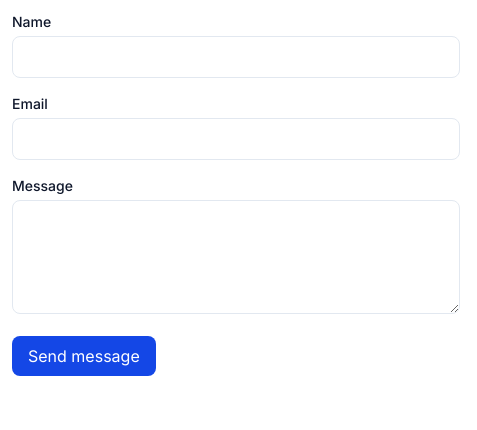
ContactForm › shows a validation error for an invalid email
Type "Jane" into the field labelled "Name".
click(236, 57); type("Jane")  # box [12,36,460,78]
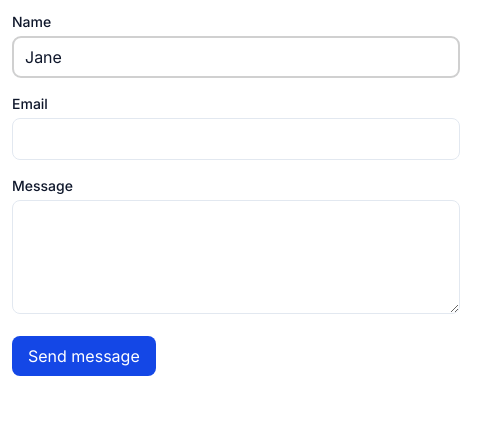
Type "not-an-email" into the field labelled "Email".
click(236, 139); type("not-an-email")  # box [12,118,460,160]
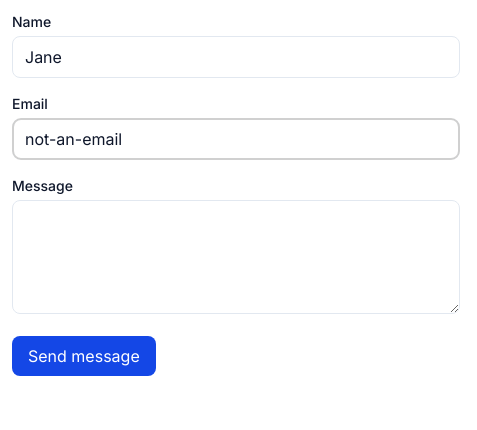
Type "Hello there" into the text box labelled "Message".
click(236, 257); type("Hello there")  # box [12,200,460,314]
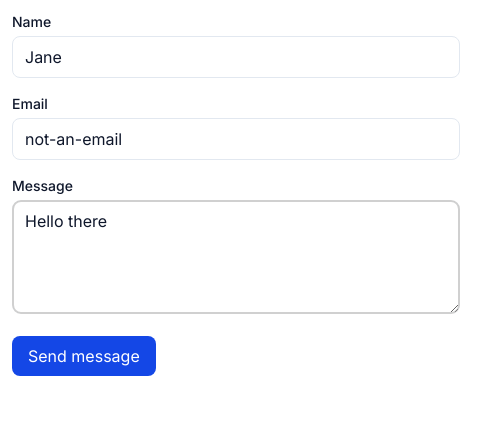
Click the button "Send message".
click(84, 356)  # box [12,336,156,376]
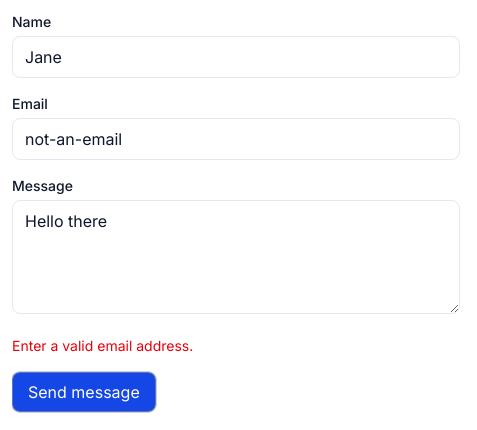
Expected: the message shows "valid email", [12,337,193,354]
